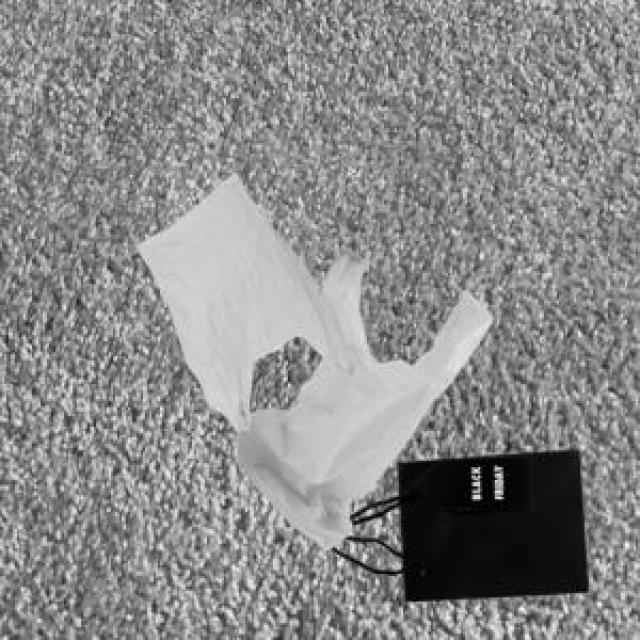paper: (339, 446, 585, 597)
